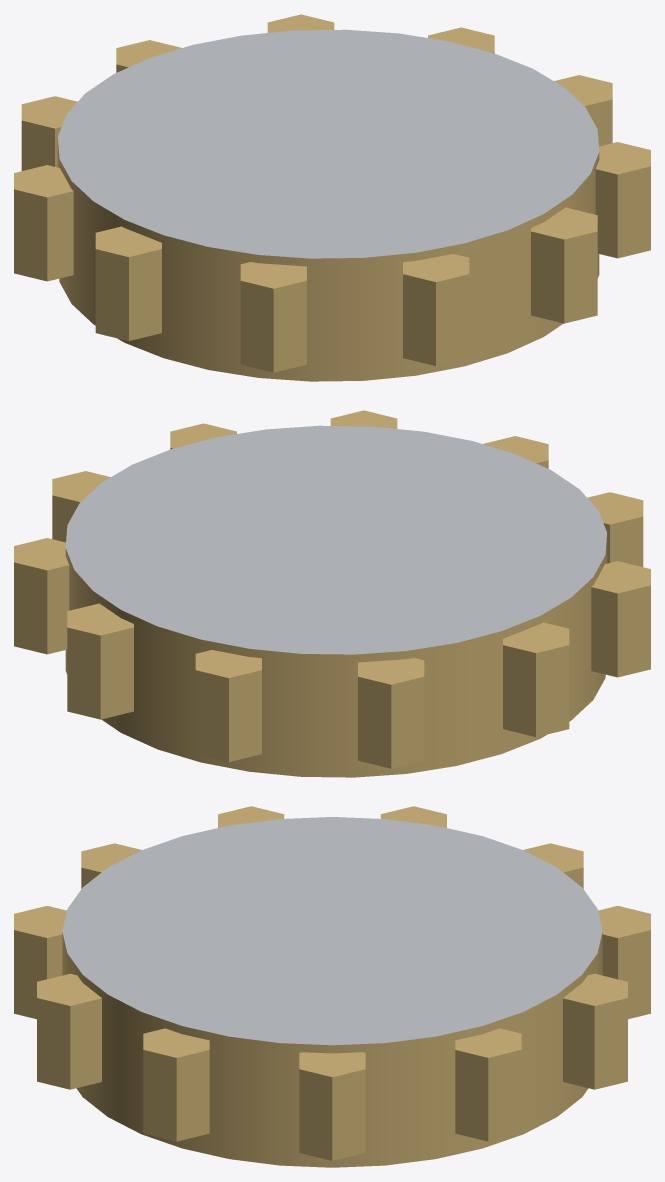
3 views of the same model, one above another, from view 1: azimuth 30°, elevation 25°; view 2: azimuth 150°, elevation 25°; view 3: azimuth 270°, elevation 25° (orthographic).
Visible parts, largest first — view 1: ratchet_11-30; view 2: ratchet_11-30; view 3: ratchet_11-30.
Boxes of the visible parts, box(x1,y1,x2,y2) form: ratchet_11-30: box(14, 14, 650, 381); ratchet_11-30: box(14, 410, 650, 777); ratchet_11-30: box(14, 806, 650, 1167).
Bounding box in the file's own units: 14.24 × 3 × 14.14.
